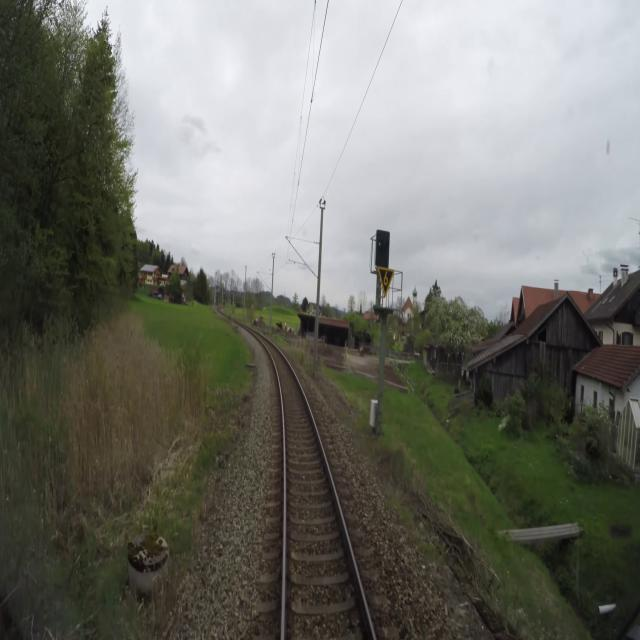rail-track: (263, 340, 372, 639)
